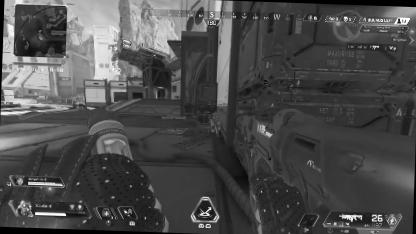Target: (207, 111, 219, 131)
